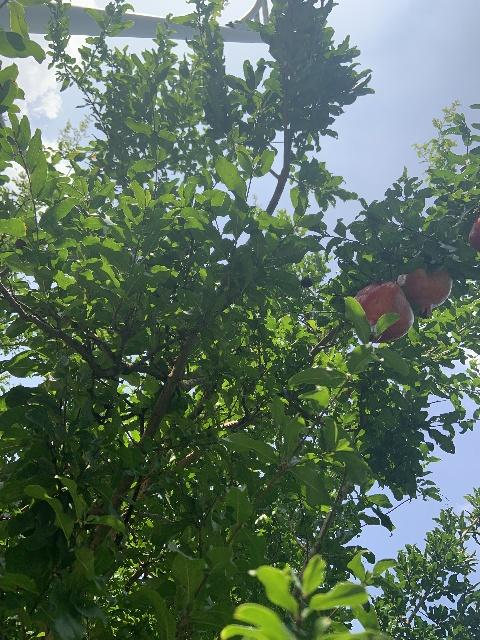ripe: (353, 280, 413, 343), (396, 268, 452, 318)
